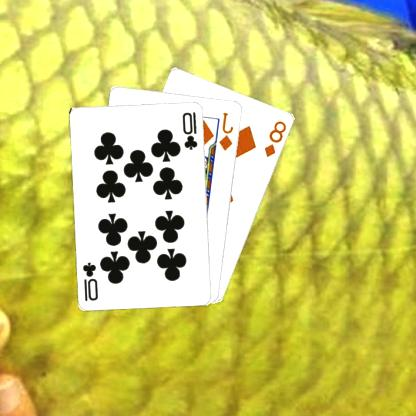10C: (82, 260, 102, 302), (182, 109, 201, 151)
8D: (264, 118, 290, 159)
JD: (218, 110, 236, 152)
